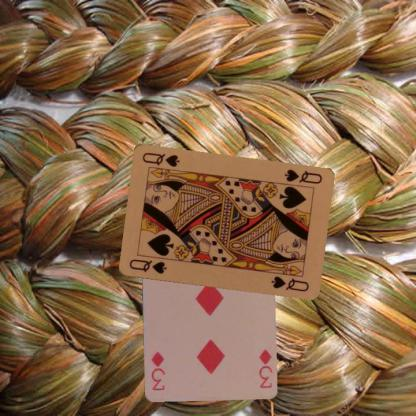3d: (256, 346, 273, 390)
Qs: (281, 166, 323, 186), (127, 256, 168, 275)
